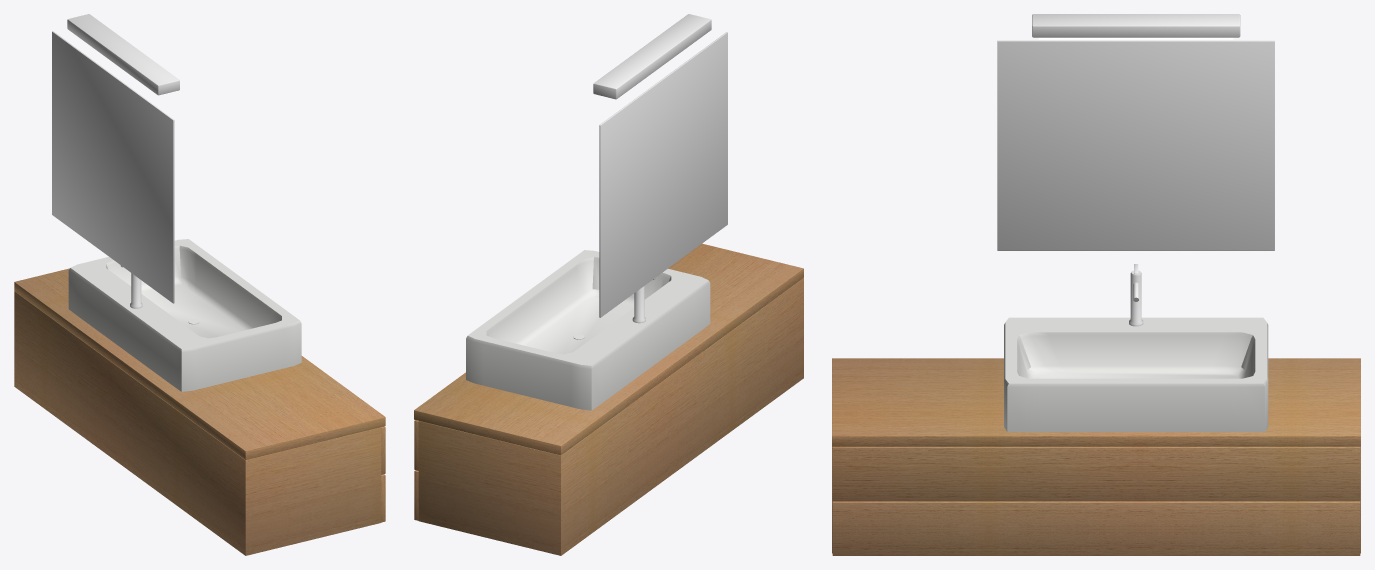
Rendered from recOIHaDr2jWTAt6v.glb.
3 renders of one model, left to right at view 1: azimuth 30°, elevation 25°; view 2: azimuth 150°, elevation 25°; view 3: azimuth 270°, elevation 25°, orthographic. The views are drawn at different scales.
Parts seen in each view (by area): view 1: Meuble_Vasque_Corps; view 2: Meuble_Vasque_Corps; view 3: Meuble_Vasque_Corps.
Part boxes in pixels (x1,y1,x2,y2): Meuble_Vasque_Corps: (14,14,385,555); Meuble_Vasque_Corps: (414,14,803,555); Meuble_Vasque_Corps: (832,14,1360,555).
Bounding box in the file's own units: 0.56 × 1.55 × 1.6.
5 materials, 1 textured.
